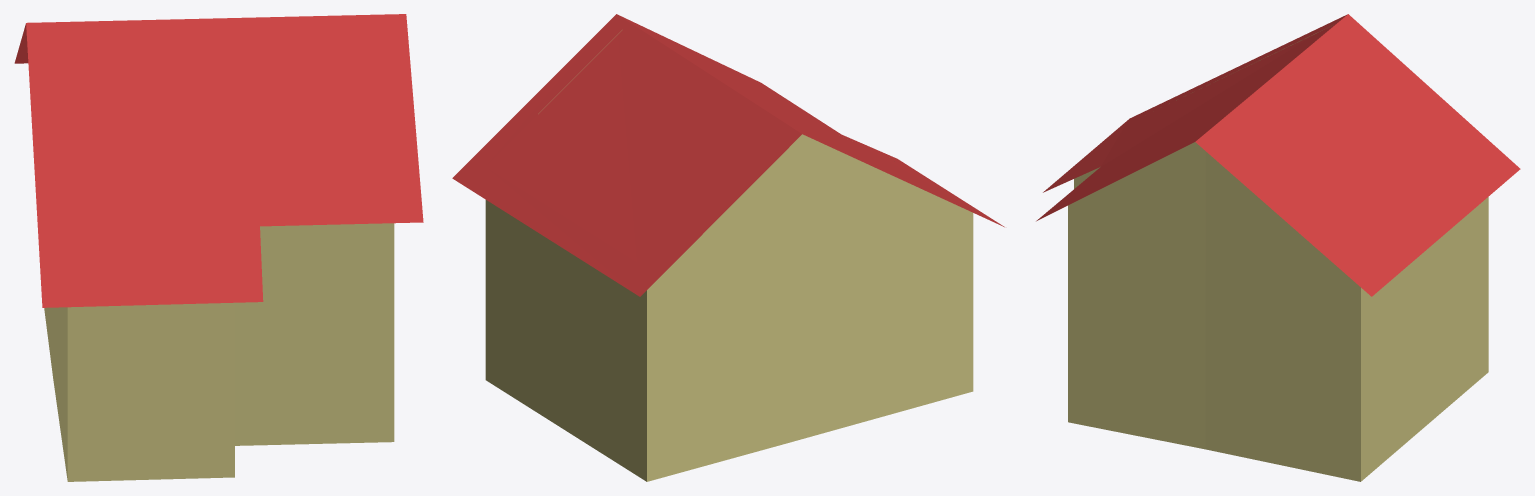
The picture shows the model from 3 angles, left to right: view 1: azimuth 30°, elevation 25°; view 2: azimuth 150°, elevation 25°; view 3: azimuth 270°, elevation 25°; orthographic projection. The views are drawn at different scales.
Size of the model in its own units: 15.6 by 15.15 by 10.91.
